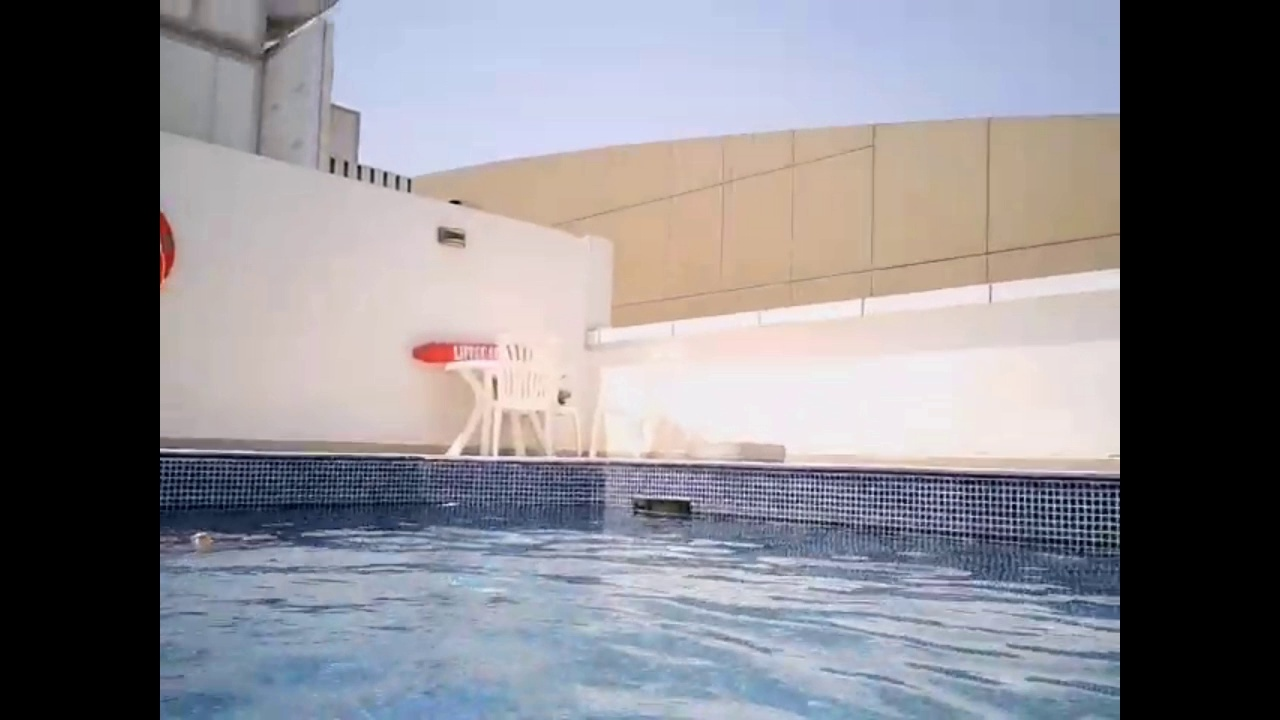debris: (185, 527, 217, 559)
